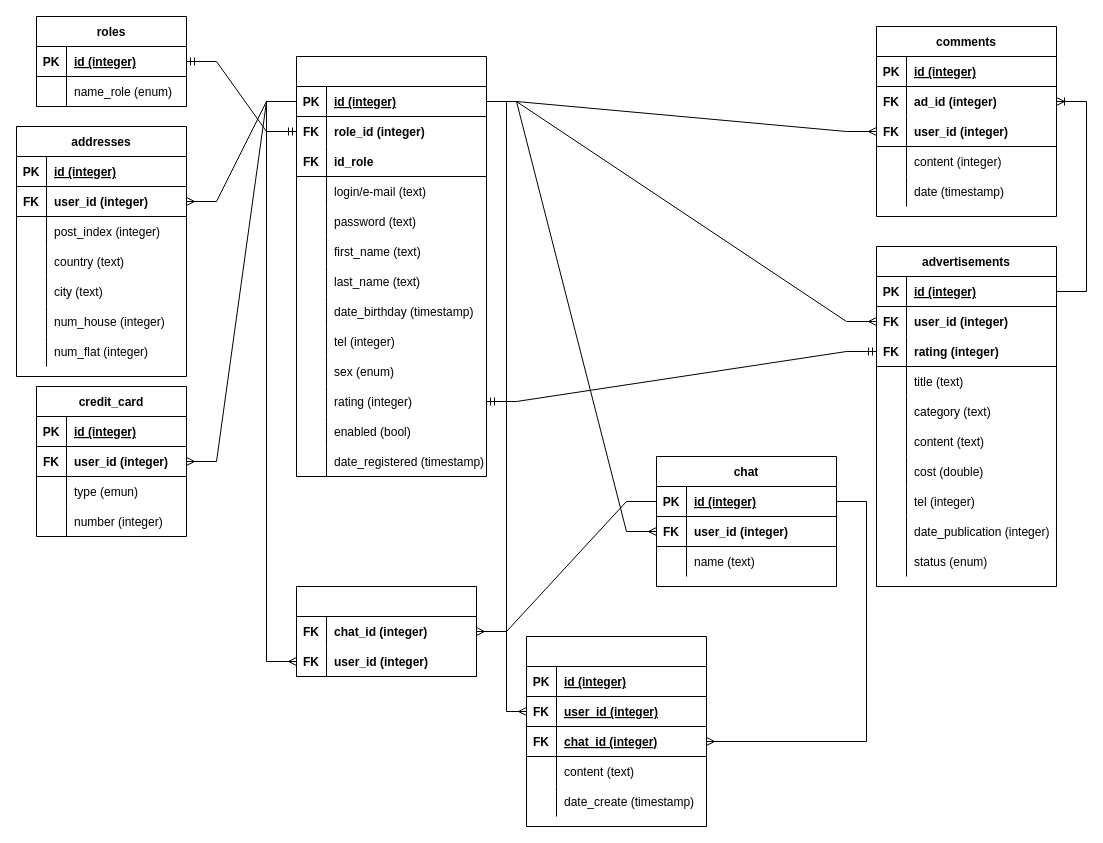
Some shapes in this 1103 by 843 pixel diagram are drawn without their labels. The box of each missing label's shape, as (x1, y1, x2, y2) in pixels:
messages: (526, 636, 706, 826)
party: (296, 586, 476, 676)
users: (296, 56, 486, 476)
